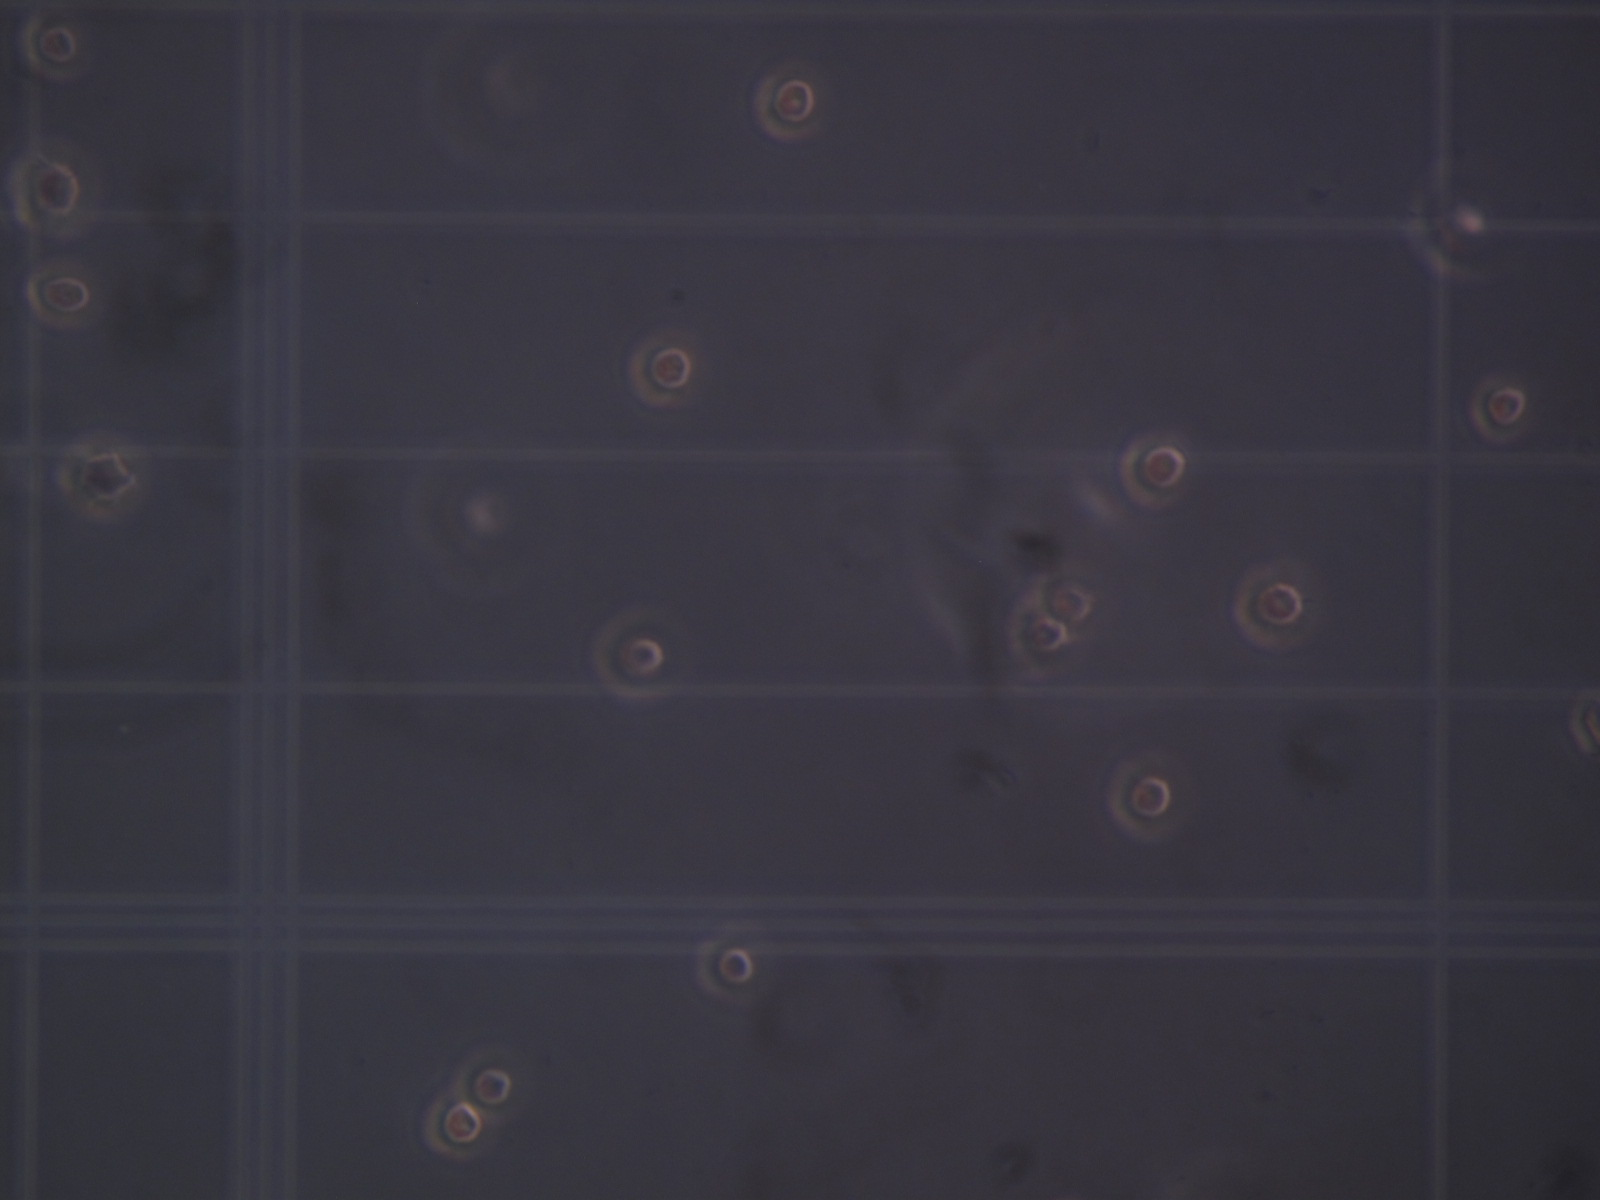hemo: (6, 140, 101, 239), (590, 608, 665, 701), (57, 441, 135, 521), (1233, 565, 1303, 650), (1106, 759, 1170, 839), (1007, 597, 1068, 679), (1119, 436, 1186, 508), (25, 262, 94, 330), (627, 337, 692, 408), (19, 14, 86, 79), (753, 72, 816, 141), (422, 1094, 485, 1160), (695, 935, 755, 1003), (1469, 376, 1527, 442), (455, 1051, 514, 1116), (1034, 570, 1094, 629), (1569, 692, 1600, 756)
